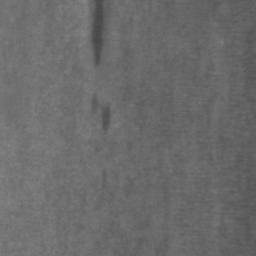Inclusion: (92, 0, 105, 64), (92, 92, 111, 132)
